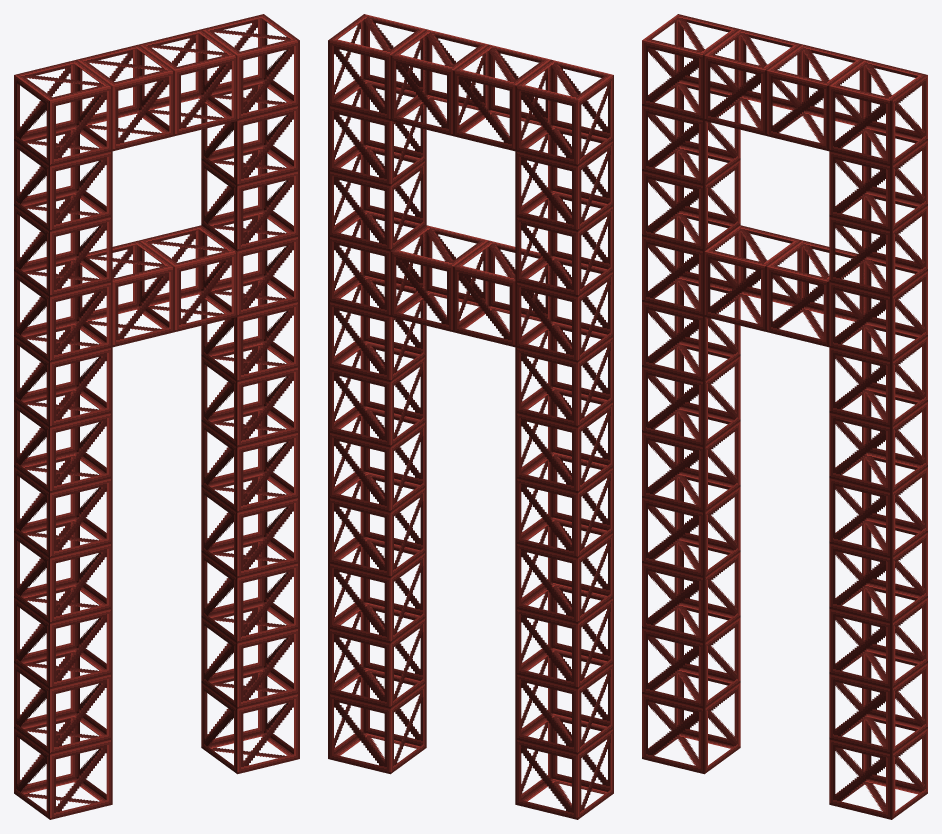
Rendered from Speks 1.fbx.
3 renders of one model, left to right at view 1: azimuth 30°, elevation 25°; view 2: azimuth 150°, elevation 25°; view 3: azimuth 330°, elevation 25°, orthographic.
Visible parts, largest first — view 1: Cube.007; view 2: Cube.007; view 3: Cube.007.
Part boxes in pixels (box(x1,y1,x2,y2)): Cube.007: box(14, 14, 299, 819); Cube.007: box(328, 14, 613, 819); Cube.007: box(642, 14, 927, 819).
Bounding box in the file's own units: 486 × 1338 × 122.
Materials: 1 (1 with a texture image).
